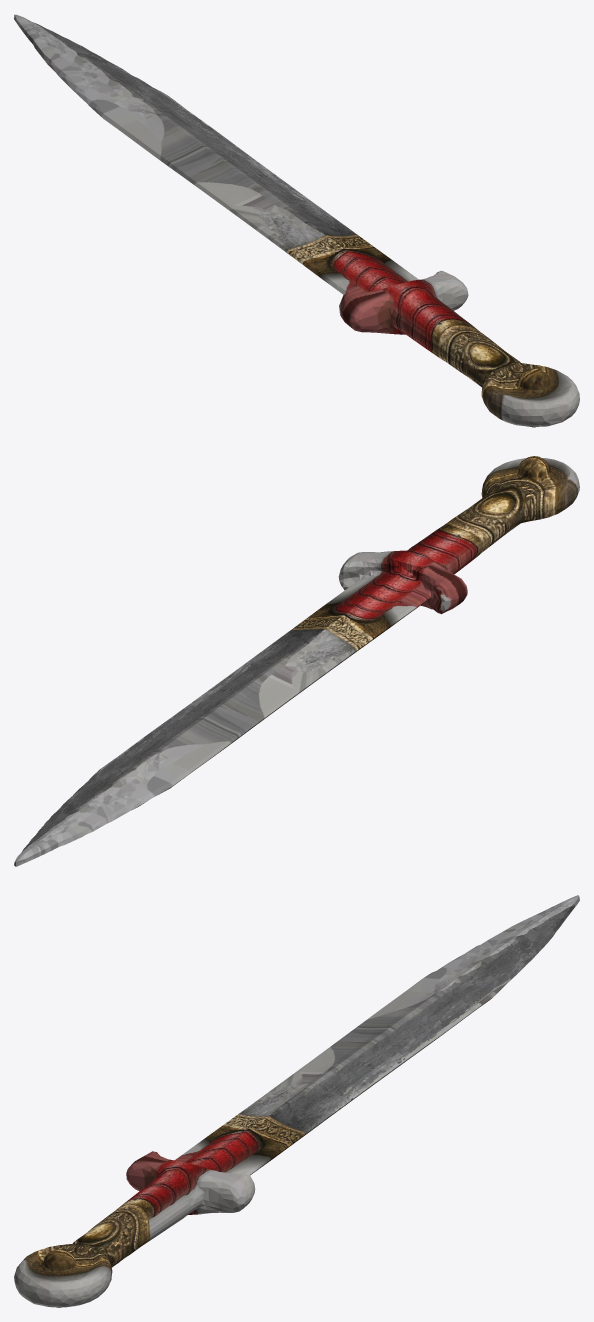
Rendered from sword.glb.
3 views of the same model, one above another, from view 1: azimuth 30°, elevation 25°; view 2: azimuth 150°, elevation 25°; view 3: azimuth 330°, elevation 25° (orthographic).
Visible parts, largest first — view 1: geometry_0; view 2: geometry_0; view 3: geometry_0.
Part boxes in pixels (bbox=[...]): geometry_0: bbox=[14, 14, 579, 427]; geometry_0: bbox=[14, 456, 579, 866]; geometry_0: bbox=[14, 895, 579, 1307].
Size of the model in its own units: 0.2499 by 0.1129 by 1.99.
Materials: 1 (1 with a texture image).
